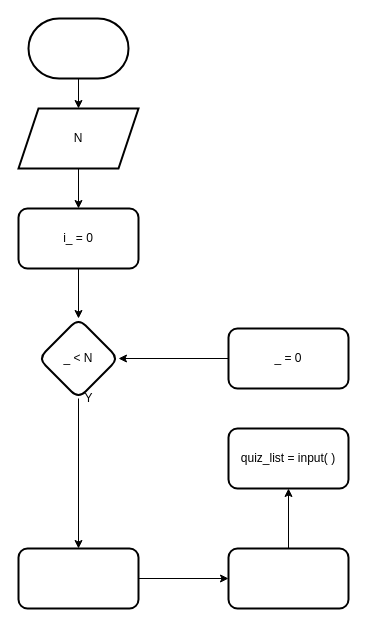
The diagram is 366 pixels wide and 626 high, and some of its shapes have lost their labels. The centre of each missing label's shape, as x and y in pixels:
score = 0: (288,578)
start: (78,48)
sum = 0: (78,578)
